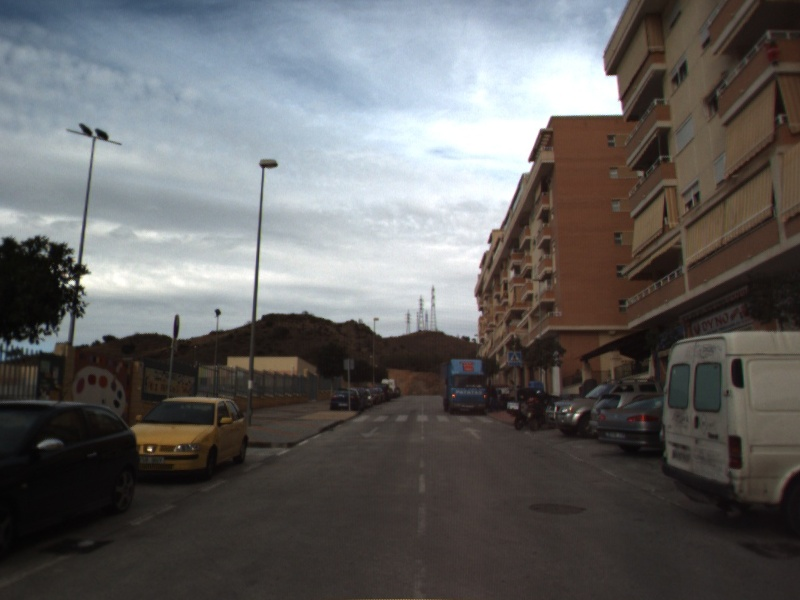STRAIGHT: (459, 424, 484, 441)
